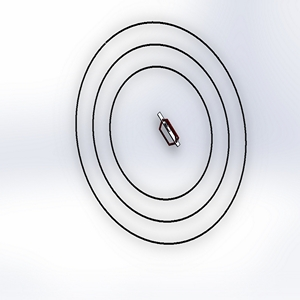circle: (57, 16, 255, 249)
submarine: (142, 106, 188, 154)
